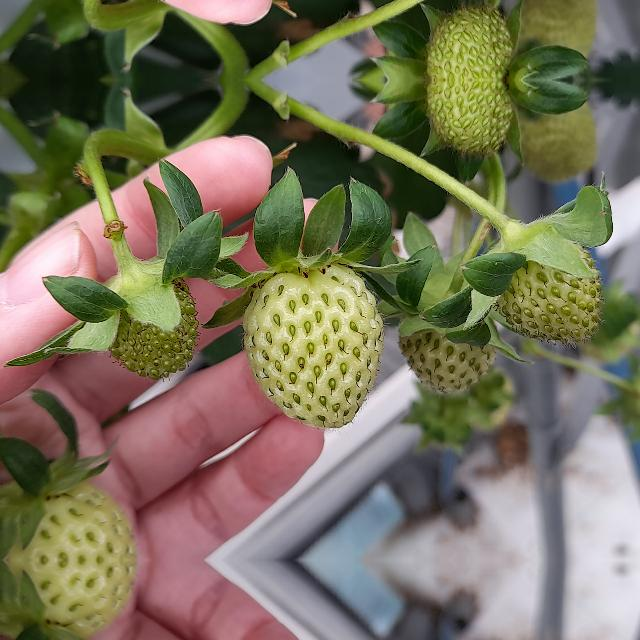Health_25: (241, 264, 383, 428), (497, 220, 607, 352), (106, 272, 202, 381), (392, 309, 498, 399), (422, 80, 520, 152), (422, 8, 520, 80)
